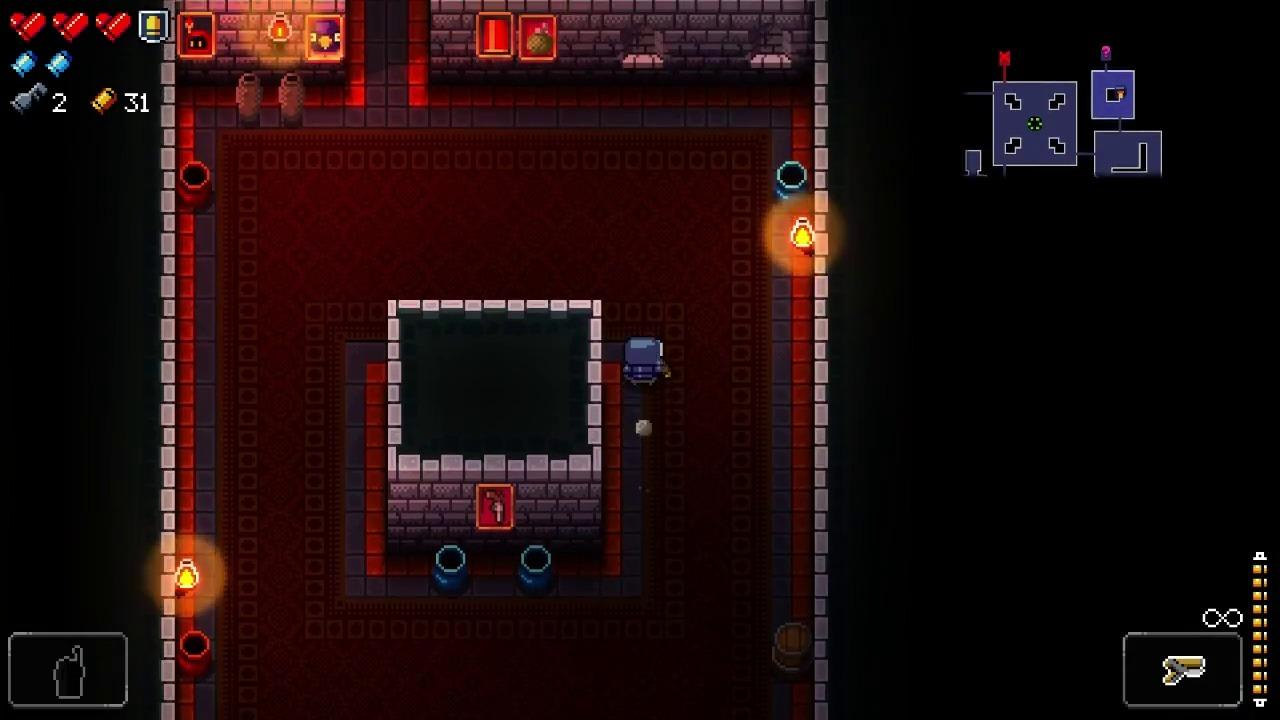player: (625, 336, 663, 387)
